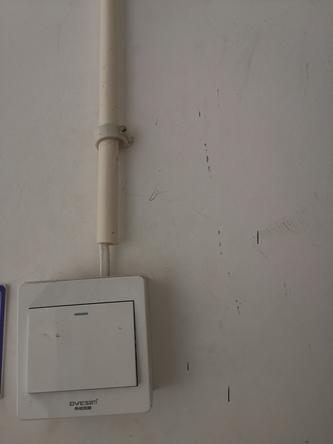switch: (22, 300, 143, 396)
